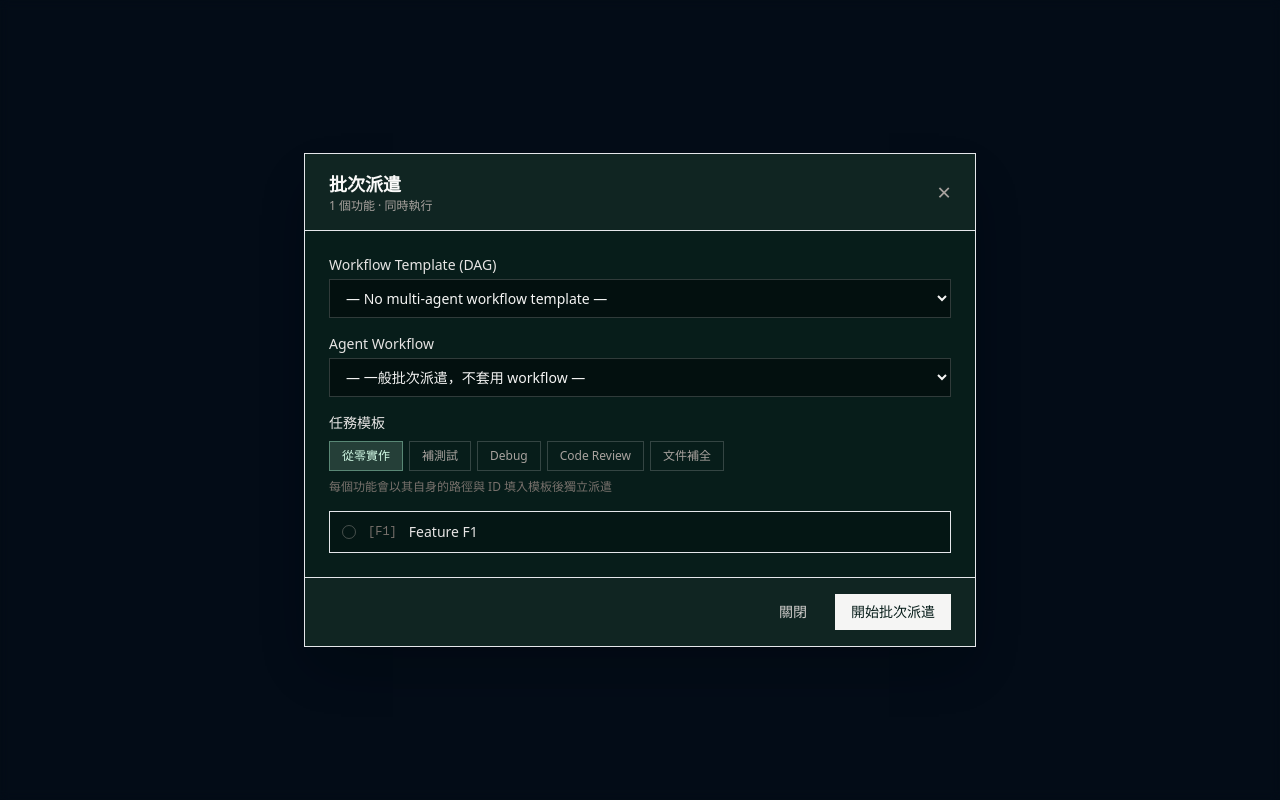
Scenario: BatchDispatchModal state handling › shows per-item spawn errors inline
Click the button "開始批次派遣". click: (893, 612)
box: [835,594,951,630]
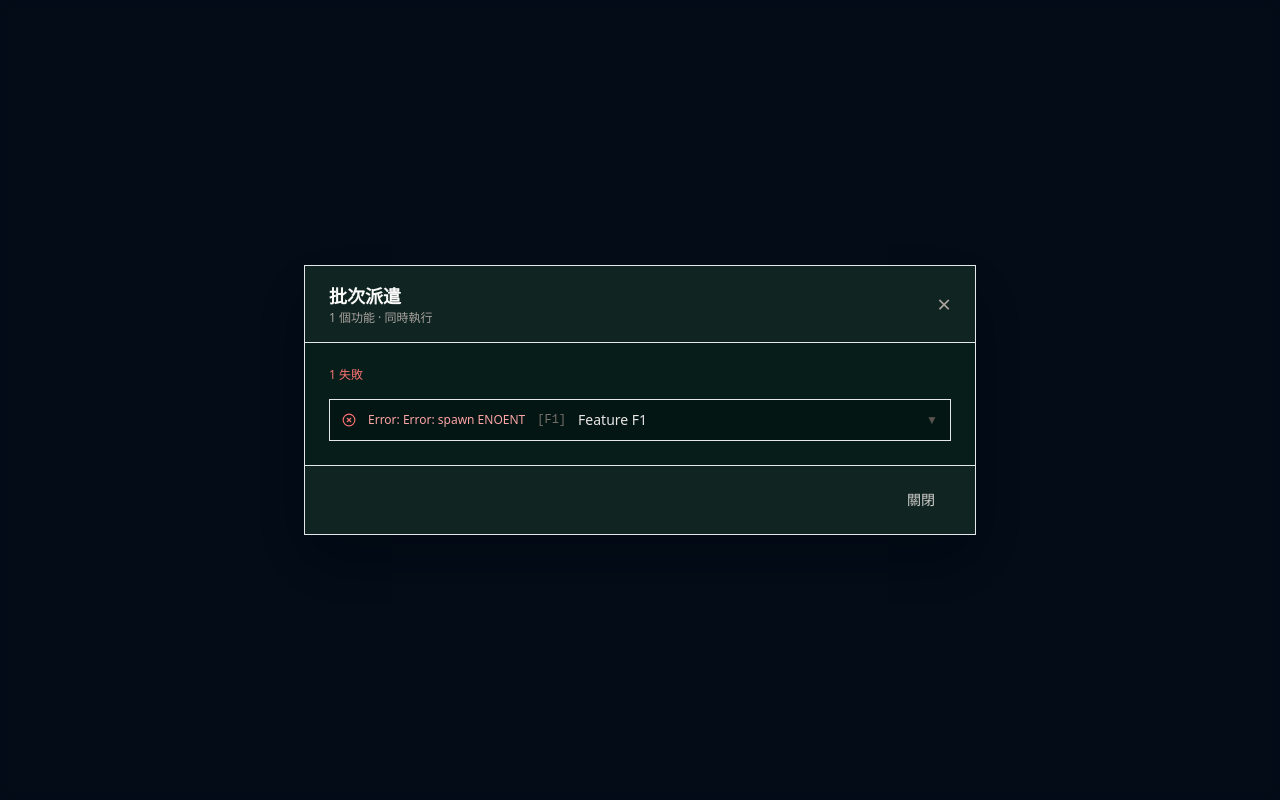
Expected: the text "Error: Error: spawn ENOENT" is shown, [368,412,525,428]
